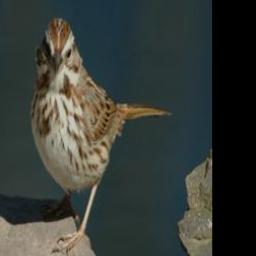Sparrow: (28, 16, 173, 251)
